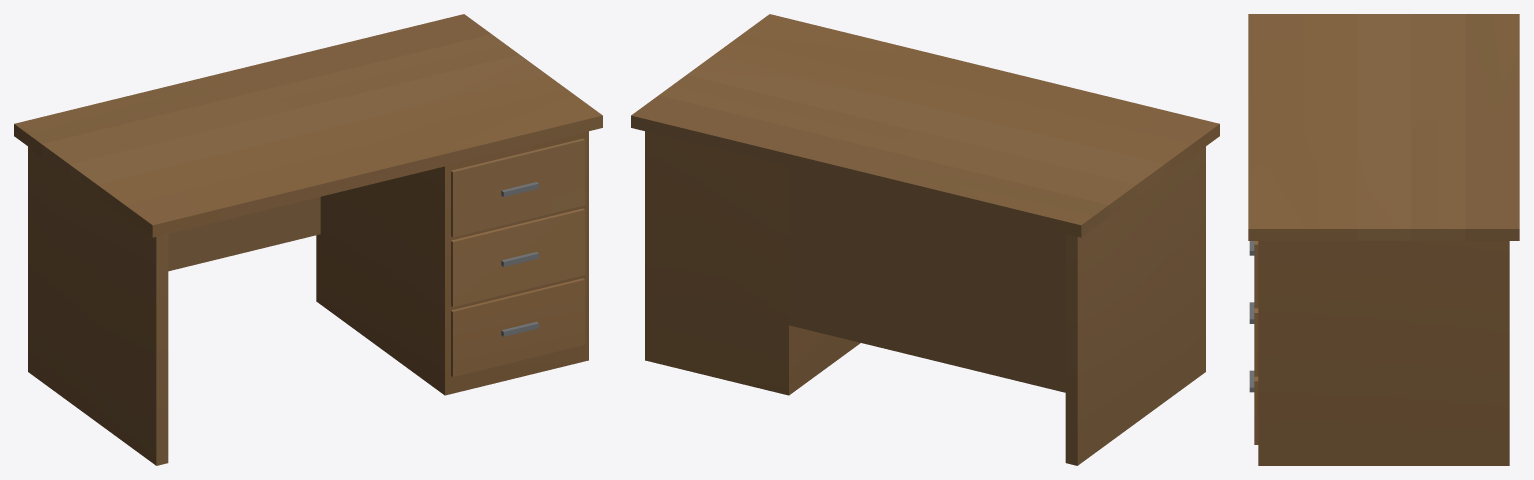
Rendered from table.desk.oak.glb.
3 renders of one model, left to right at view 1: azimuth 30°, elevation 25°; view 2: azimuth 150°, elevation 25°; view 3: azimuth 270°, elevation 25°, orthographic. The views are drawn at different scales.
Parts seen in each view (by area): view 1: table_desk_oak; view 2: table_desk_oak; view 3: table_desk_oak.
Part boxes in pixels (x1=…): table_desk_oak: x1=14, y1=14, x2=602, y2=465; table_desk_oak: x1=631, y1=14, x2=1219, y2=465; table_desk_oak: x1=1248, y1=14, x2=1519, y2=465.
Size of what is drawn, in the model's own units: 1.53 by 0.8 by 0.816.
